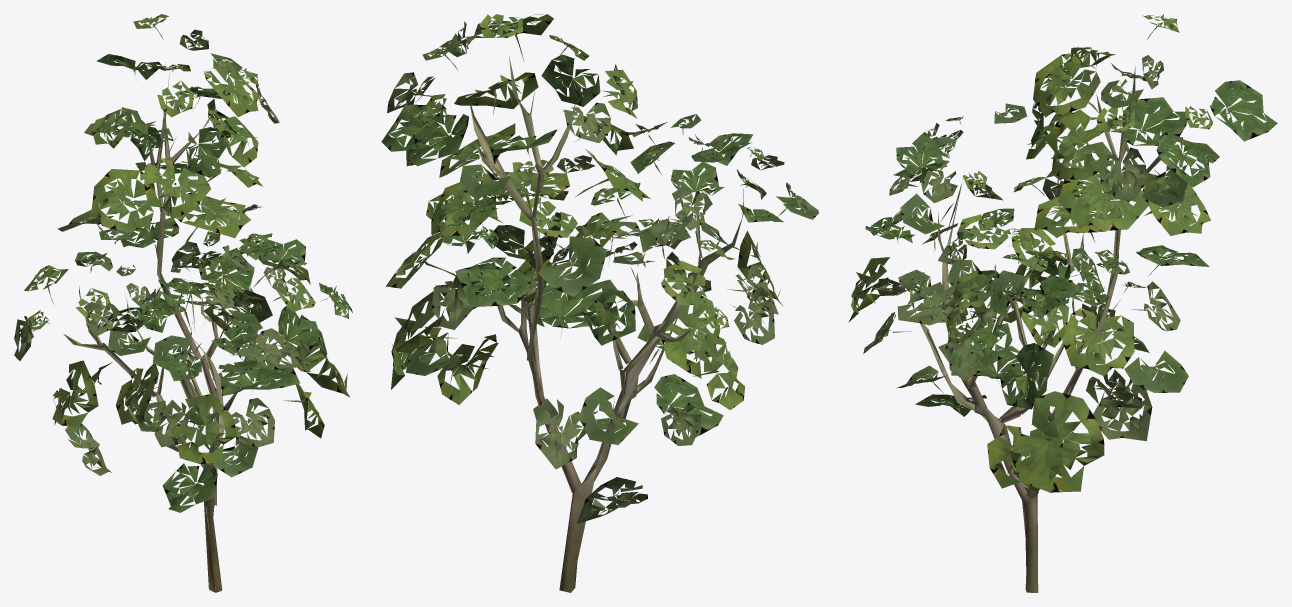
File: follaje_ligero.glb
The picture shows the model from 3 angles, left to right: view 1: azimuth 30°, elevation 25°; view 2: azimuth 150°, elevation 25°; view 3: azimuth 270°, elevation 25°; orthographic projection. The views are drawn at different scales.
Parts seen in each view (by area): view 1: potted_plant_01_leaves, potted_plant_01_stem; view 2: potted_plant_01_leaves, potted_plant_01_stem; view 3: potted_plant_01_leaves, potted_plant_01_stem.
Part boxes in pixels (bbox=[...]): potted_plant_01_leaves: bbox=[14, 14, 352, 512]; potted_plant_01_stem: bbox=[63, 70, 259, 592]; potted_plant_01_leaves: bbox=[381, 14, 818, 523]; potted_plant_01_stem: bbox=[469, 56, 743, 592]; potted_plant_01_leaves: bbox=[848, 14, 1277, 492]; potted_plant_01_stem: bbox=[910, 66, 1176, 592].
Bounding box in the file's own units: 0.587 × 0.9234 × 0.6305.
2 materials, 2 textured.
